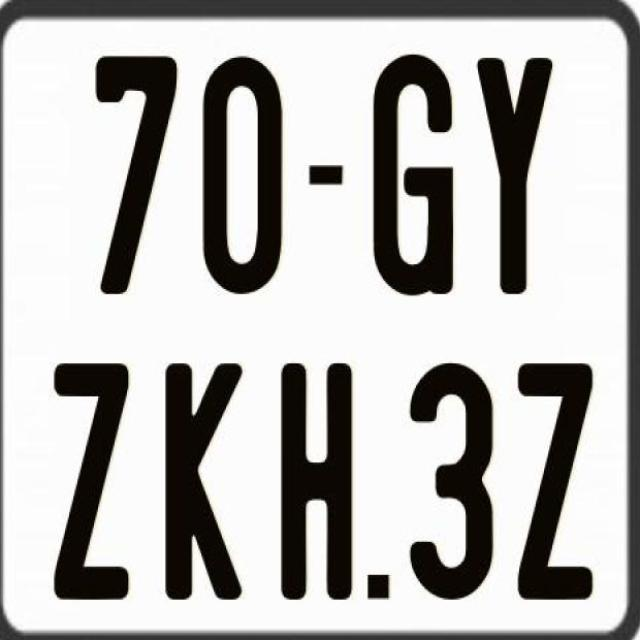license-plate: (12, 16, 640, 640)
